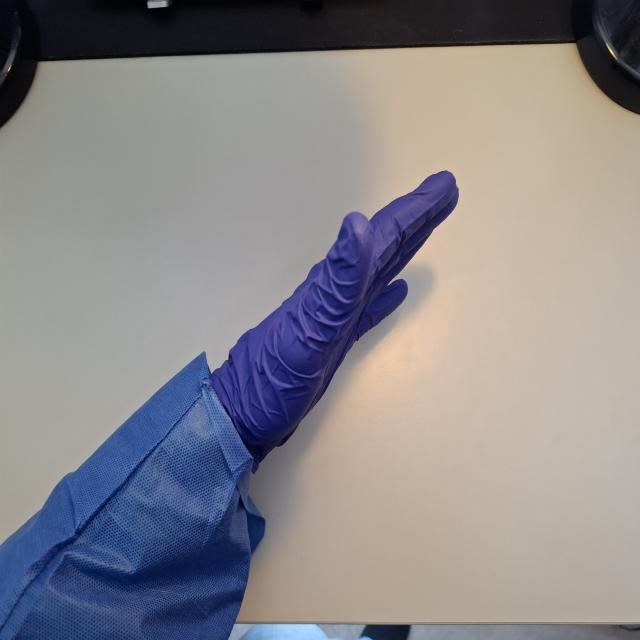glove_on: (203, 166, 462, 478)
